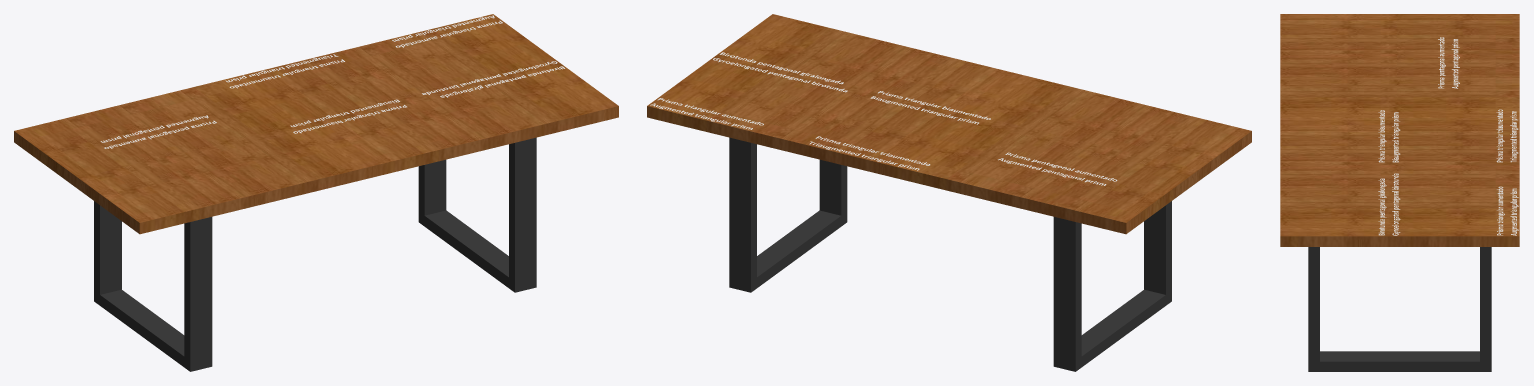
File: johnson2d.glb
3 views of the same model, side by side, from view 1: azimuth 30°, elevation 25°; view 2: azimuth 150°, elevation 25°; view 3: azimuth 270°, elevation 25° (orthographic). The views are drawn at different scales.
Parts seen in each view (by area): view 1: object 1, Composant#1 (×2), Birotunda pentag, Prisma triangula#1, Prisma triangula#2, Prisma pentagona, Prisma triangula; view 2: object 1, Composant#1 (×2), Birotunda pentag, Prisma triangula#2, Prisma triangula#1, Prisma pentagona, Prisma triangula; view 3: object 1, Composant#1, Birotunda pentag, Prisma triangula#2, Prisma triangula#1, Prisma pentagona, Prisma triangula.
Boxes of the visible parts, x1,y1,x2,y2 form: object 1: [14, 14, 618, 234]; Composant#1 (×2): [94, 137, 536, 371]; Birotunda pentag: [422, 61, 564, 97]; Prisma triangula#1: [290, 99, 406, 133]; Prisma triangula#2: [225, 54, 344, 88]; Prisma pentagona: [100, 115, 216, 148]; Prisma triangula: [392, 15, 502, 47]; object 1: [647, 14, 1251, 234]; Composant#1 (×2): [729, 137, 1171, 371]; Birotunda pentag: [713, 52, 847, 92]; Prisma triangula#2: [809, 136, 930, 170]; Prisma triangula#1: [870, 91, 990, 124]; Prisma pentagona: [998, 152, 1117, 185]; Prisma triangula: [650, 98, 763, 129]; object 1: [1280, 14, 1519, 246]; Composant#1: [1308, 247, 1491, 371]; Birotunda pentag: [1378, 173, 1400, 235]; Prisma triangula#2: [1496, 109, 1518, 162]; Prisma triangula#1: [1378, 110, 1400, 162]; Prisma pentagona: [1438, 37, 1459, 88]; Prisma triangula: [1497, 186, 1518, 235].
Bounding box in the file's own units: 2.2 × 0.771 × 1.
Materials: 3 (1 with a texture image).
